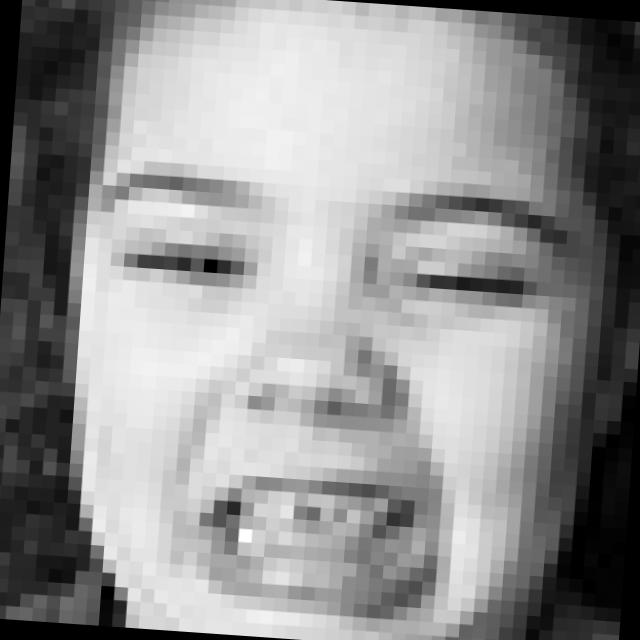disgust: (73, 160, 572, 636)
